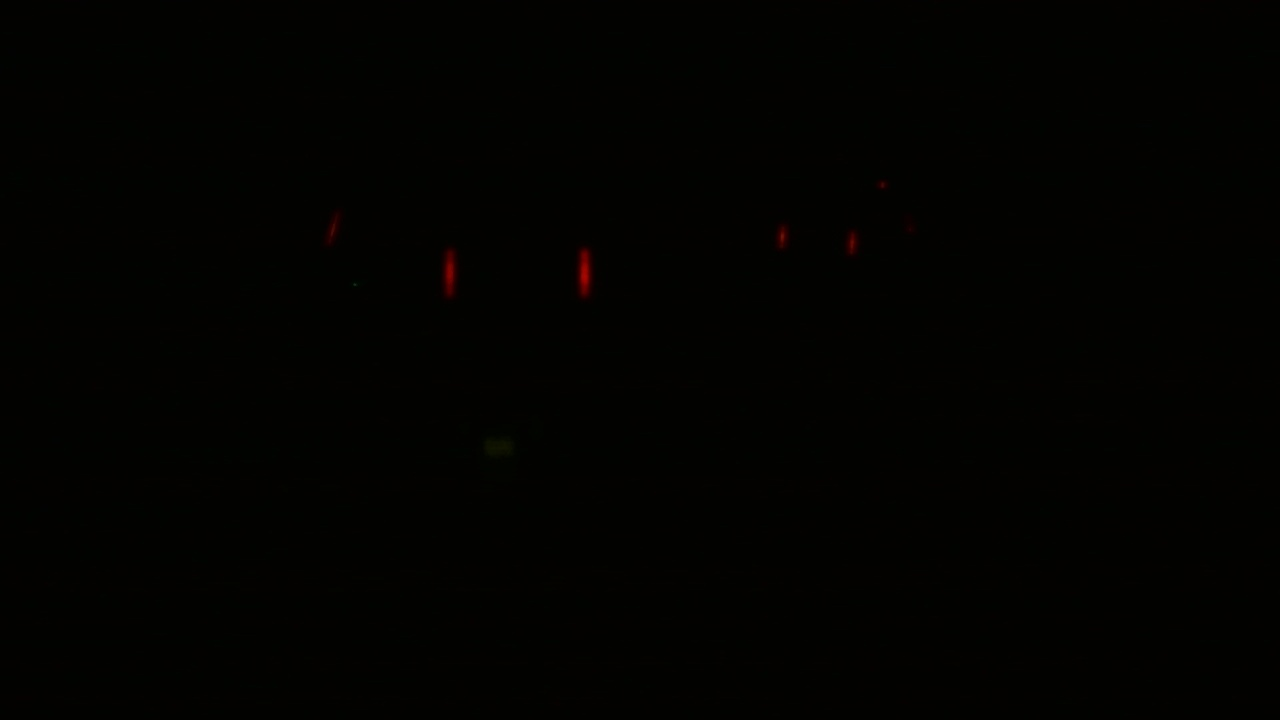pair1: (437, 239, 595, 300), (774, 217, 862, 261)
